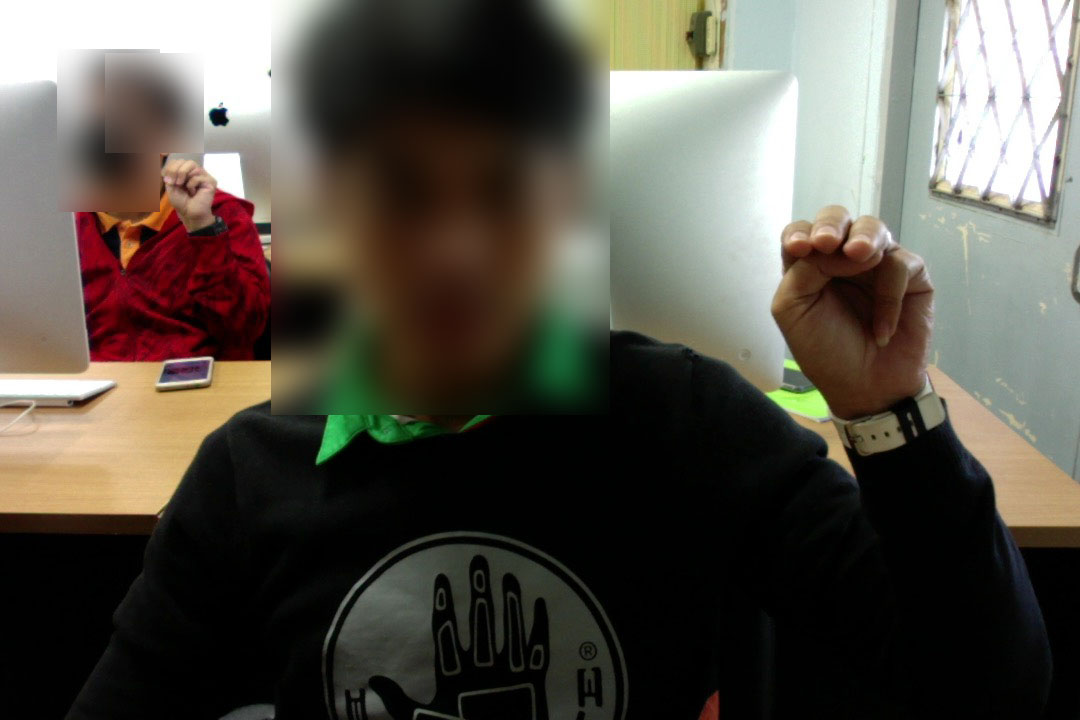mor: (771, 192, 937, 409)
